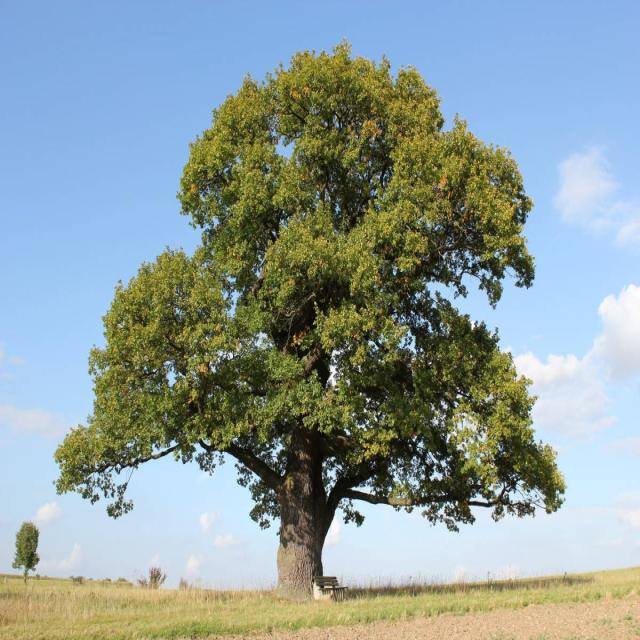roble: (56, 43, 568, 590)
